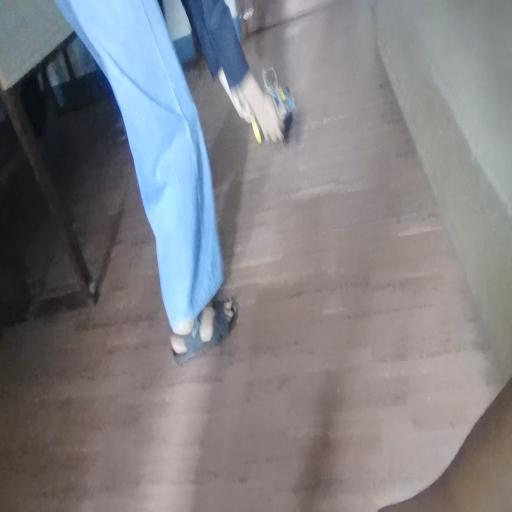car: (268, 70, 298, 114)
